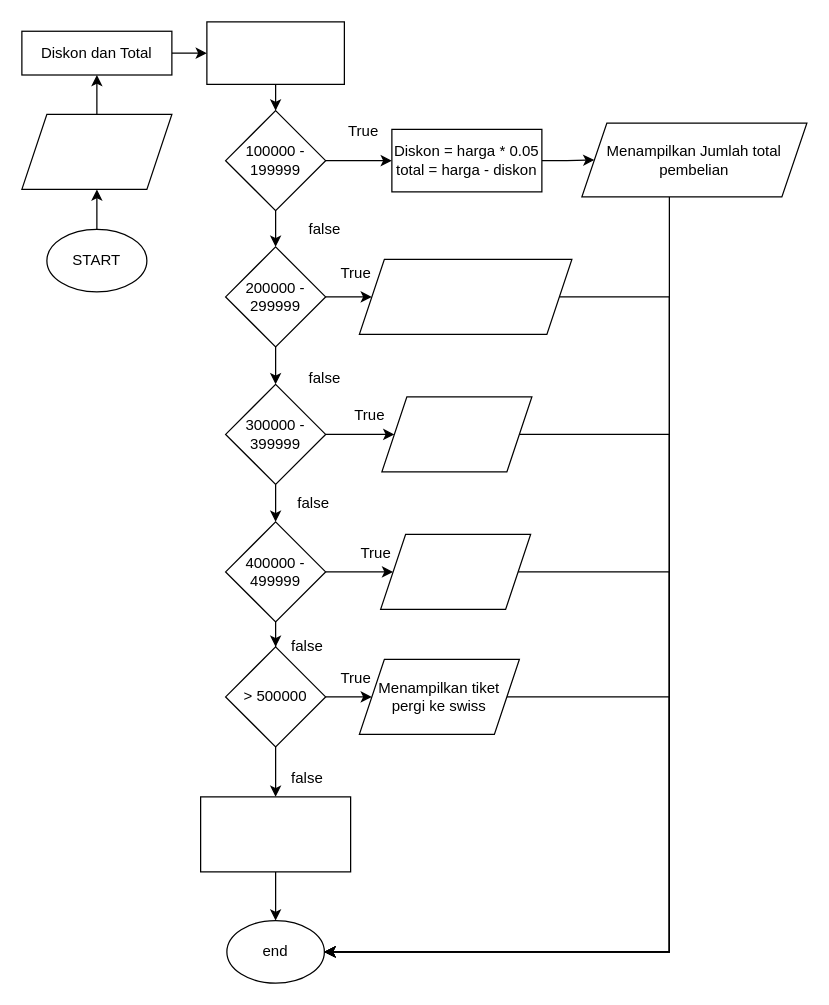
Image size: 829x1005. Some labels were removed from this diagram. The centre of each missing label's shape, as x and y in pixels:
"Default : Pilihan tidak ada" belongs at pixel 275 834.
"Masukan Harga/Pembelian" belongs at pixel 96 151.
"Menampilakn tiket pergi ke jogja" belongs at pixel 465 296.
"Menampilkan tiket pergi ke bali" belongs at pixel 456 434.
"Mendapatkan Jam tangan Rolex" belongs at pixel 455 571.
"switch(pembelian)" belongs at pixel 275 52.
